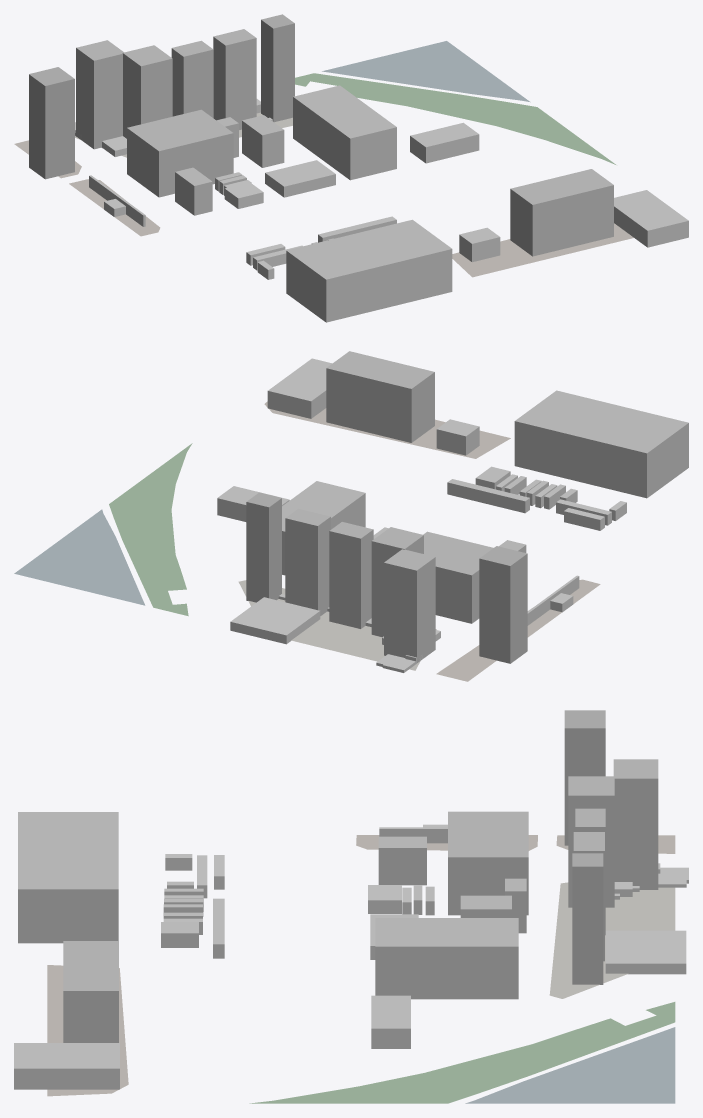
The model's file is 121_83_mid.glb.
3 views of the same model, one above another, from view 1: azimuth 30°, elevation 25°; view 2: azimuth 150°, elevation 25°; view 3: azimuth 270°, elevation 25° (orthographic). The views are drawn at different scales.
Bounding box in the file's own units: 515 × 106 × 537.
